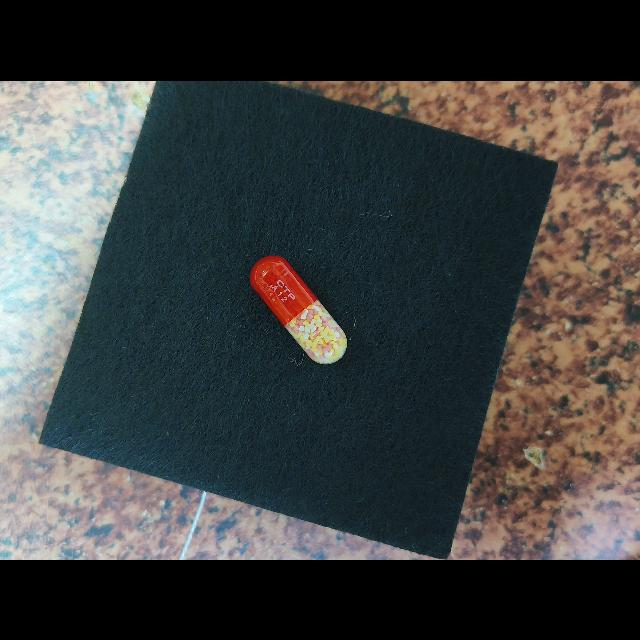Intact Capsule: (250, 255, 347, 364)
